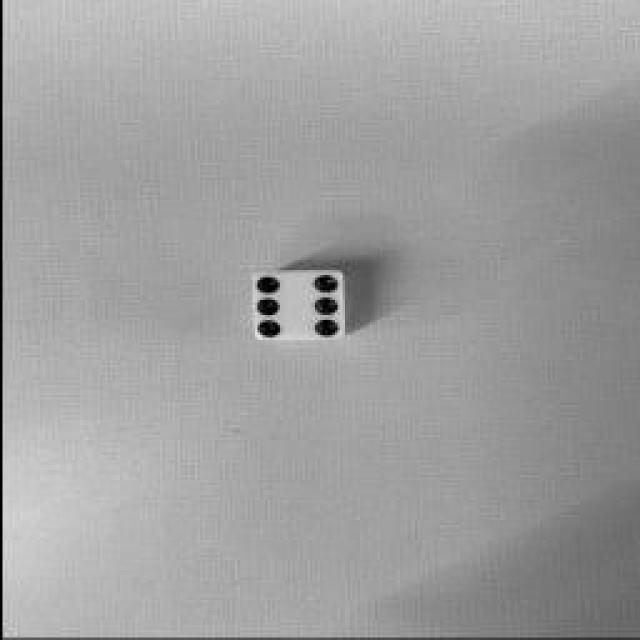dice_6: (249, 271, 341, 341)
